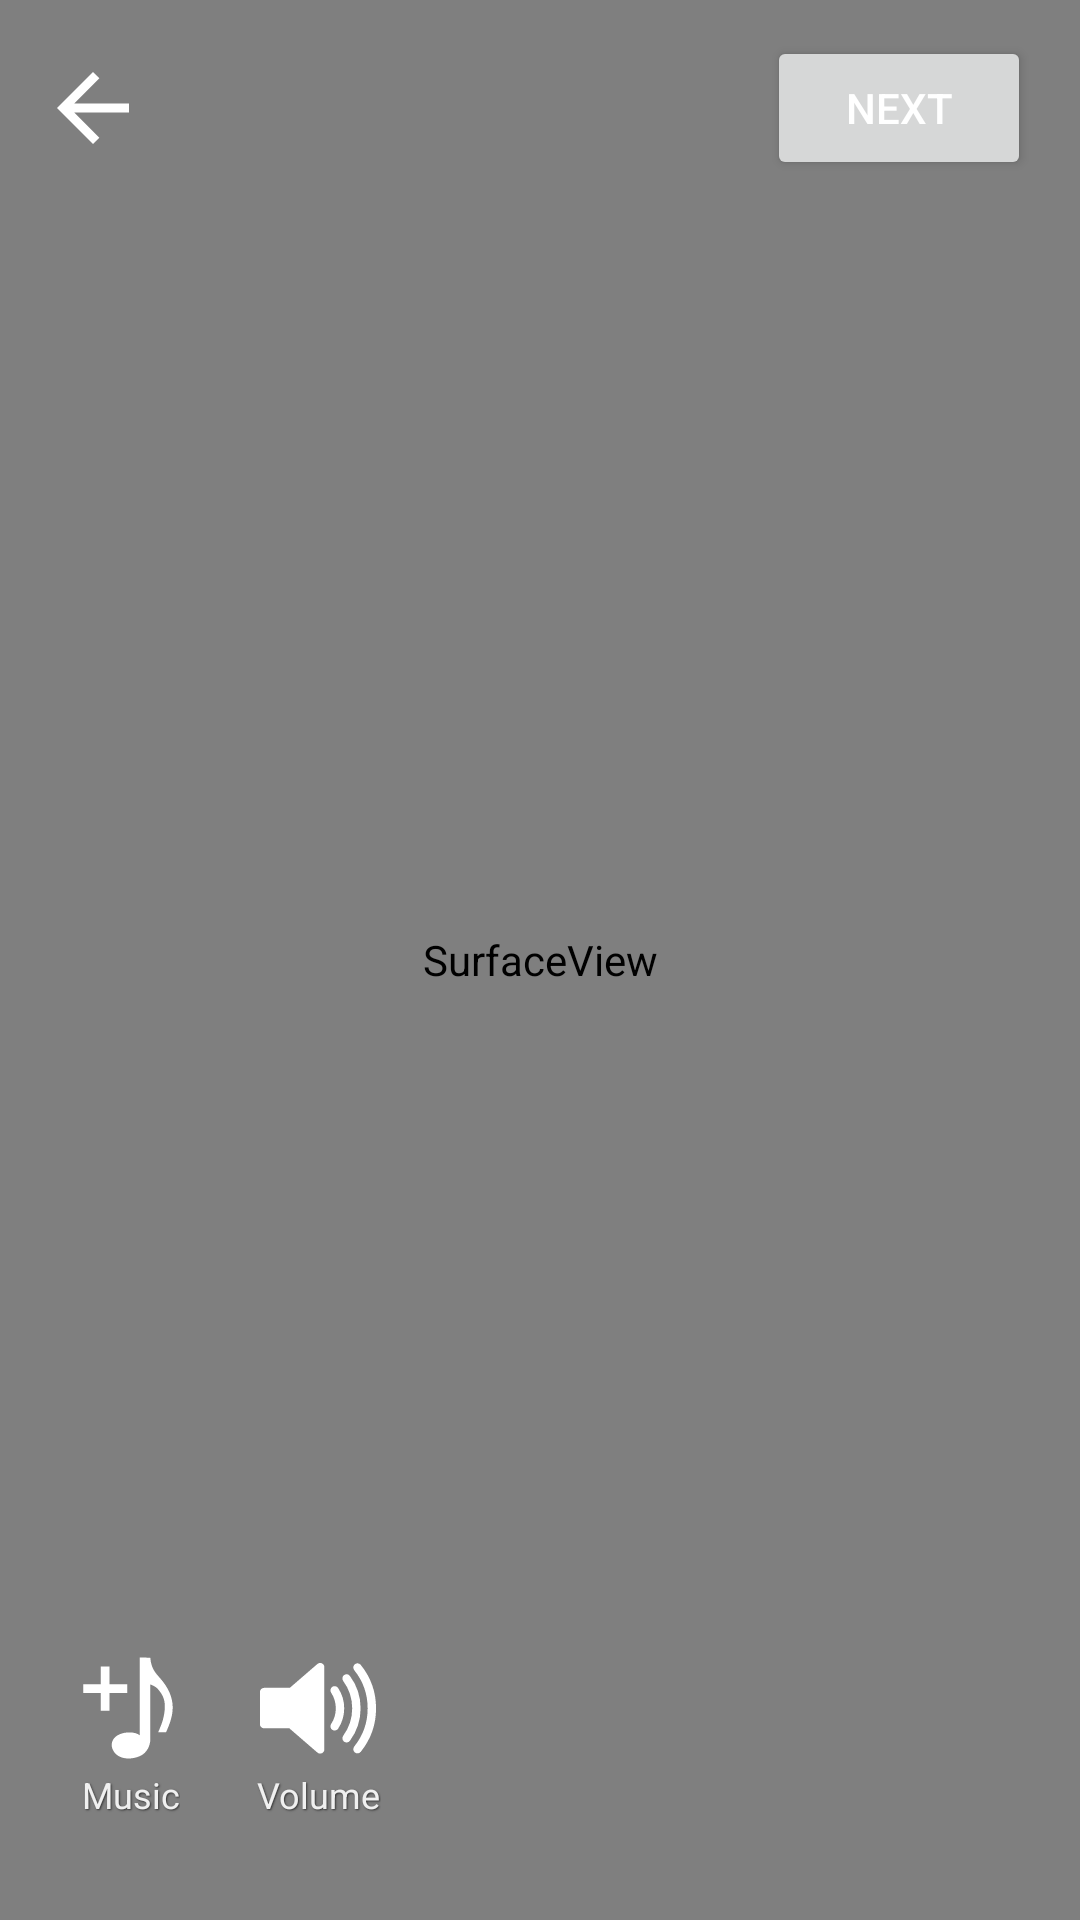

Point at icon controls on the screen. Image size 1080 × 1920, points as (x,y).
back: (93,108)
